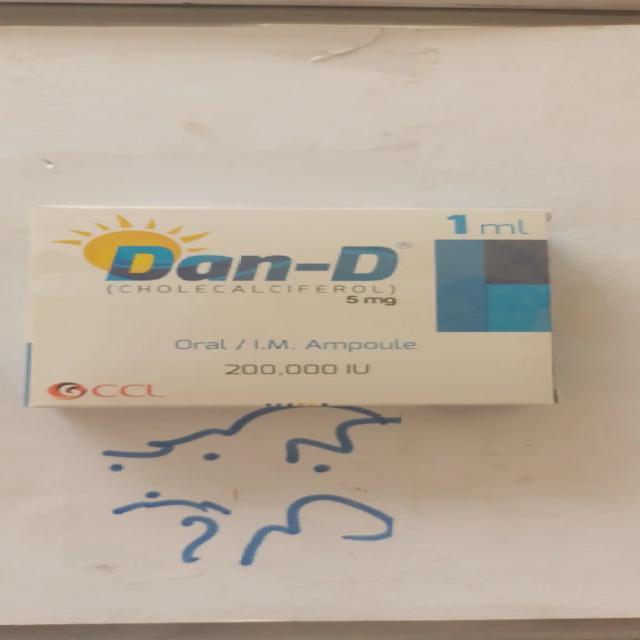drug-name: (105, 242, 402, 284)
